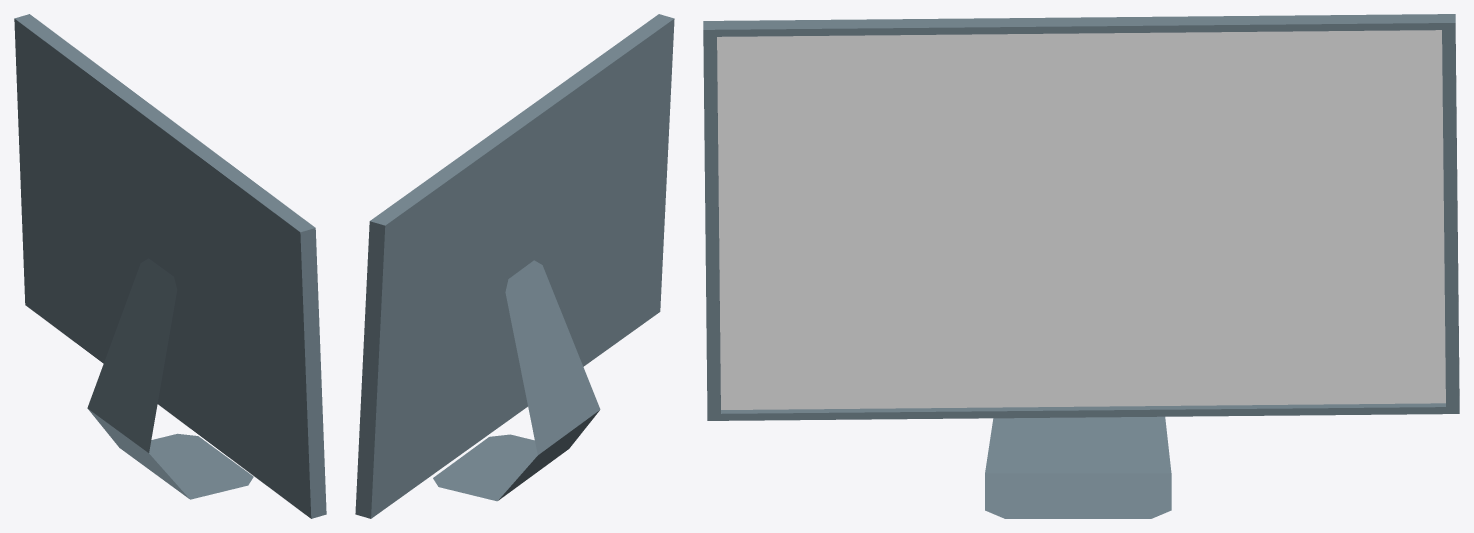
3 views of the same model, side by side, from view 1: azimuth 30°, elevation 25°; view 2: azimuth 150°, elevation 25°; view 3: azimuth 270°, elevation 25° (orthographic). The views are drawn at different scales.
Visible parts, largest first — view 1: Plane001, Plane; view 2: Plane001, Plane; view 3: Plane001, Plane.
Part boxes in pixels (x1,y1,x2,y2): Plane001: [14, 14, 326, 518]; Plane: [87, 258, 253, 499]; Plane001: [355, 14, 674, 518]; Plane: [433, 260, 600, 501]; Plane001: [703, 14, 1459, 420]; Plane: [985, 416, 1171, 518].
Size of the model in its own units: 1.75 by 5.47 by 8.11.
